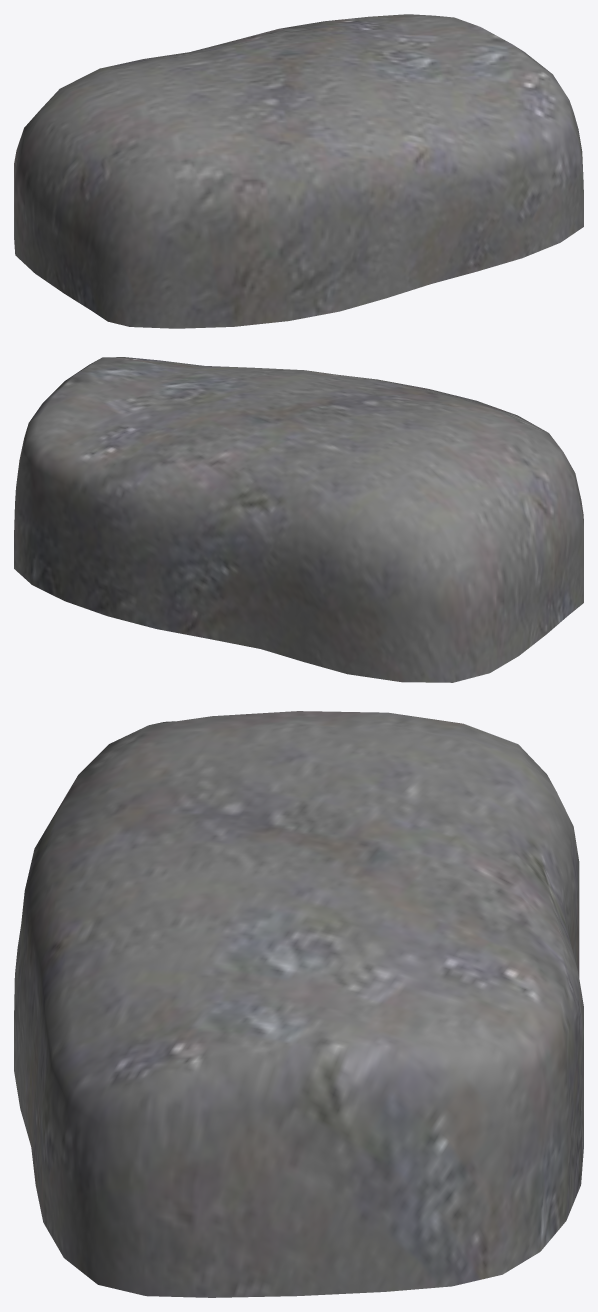
Rendered from SM_Sun_Pal_Stone_J.fbx.
The picture shows the model from 3 angles, top to bottom: view 1: azimuth 30°, elevation 25°; view 2: azimuth 150°, elevation 25°; view 3: azimuth 270°, elevation 25°; orthographic projection. The views are drawn at different scales.
Parts seen in each view (by area): view 1: SM_Sun_Pal_Stone_J; view 2: SM_Sun_Pal_Stone_J; view 3: SM_Sun_Pal_Stone_J.
Part boxes in pixels (<box>): SM_Sun_Pal_Stone_J: <box>14,14,583,328</box>; SM_Sun_Pal_Stone_J: <box>14,357,583,682</box>; SM_Sun_Pal_Stone_J: <box>14,711,583,1297</box>.
Size of the model in its own units: 90.3 by 30.12 by 57.57.
